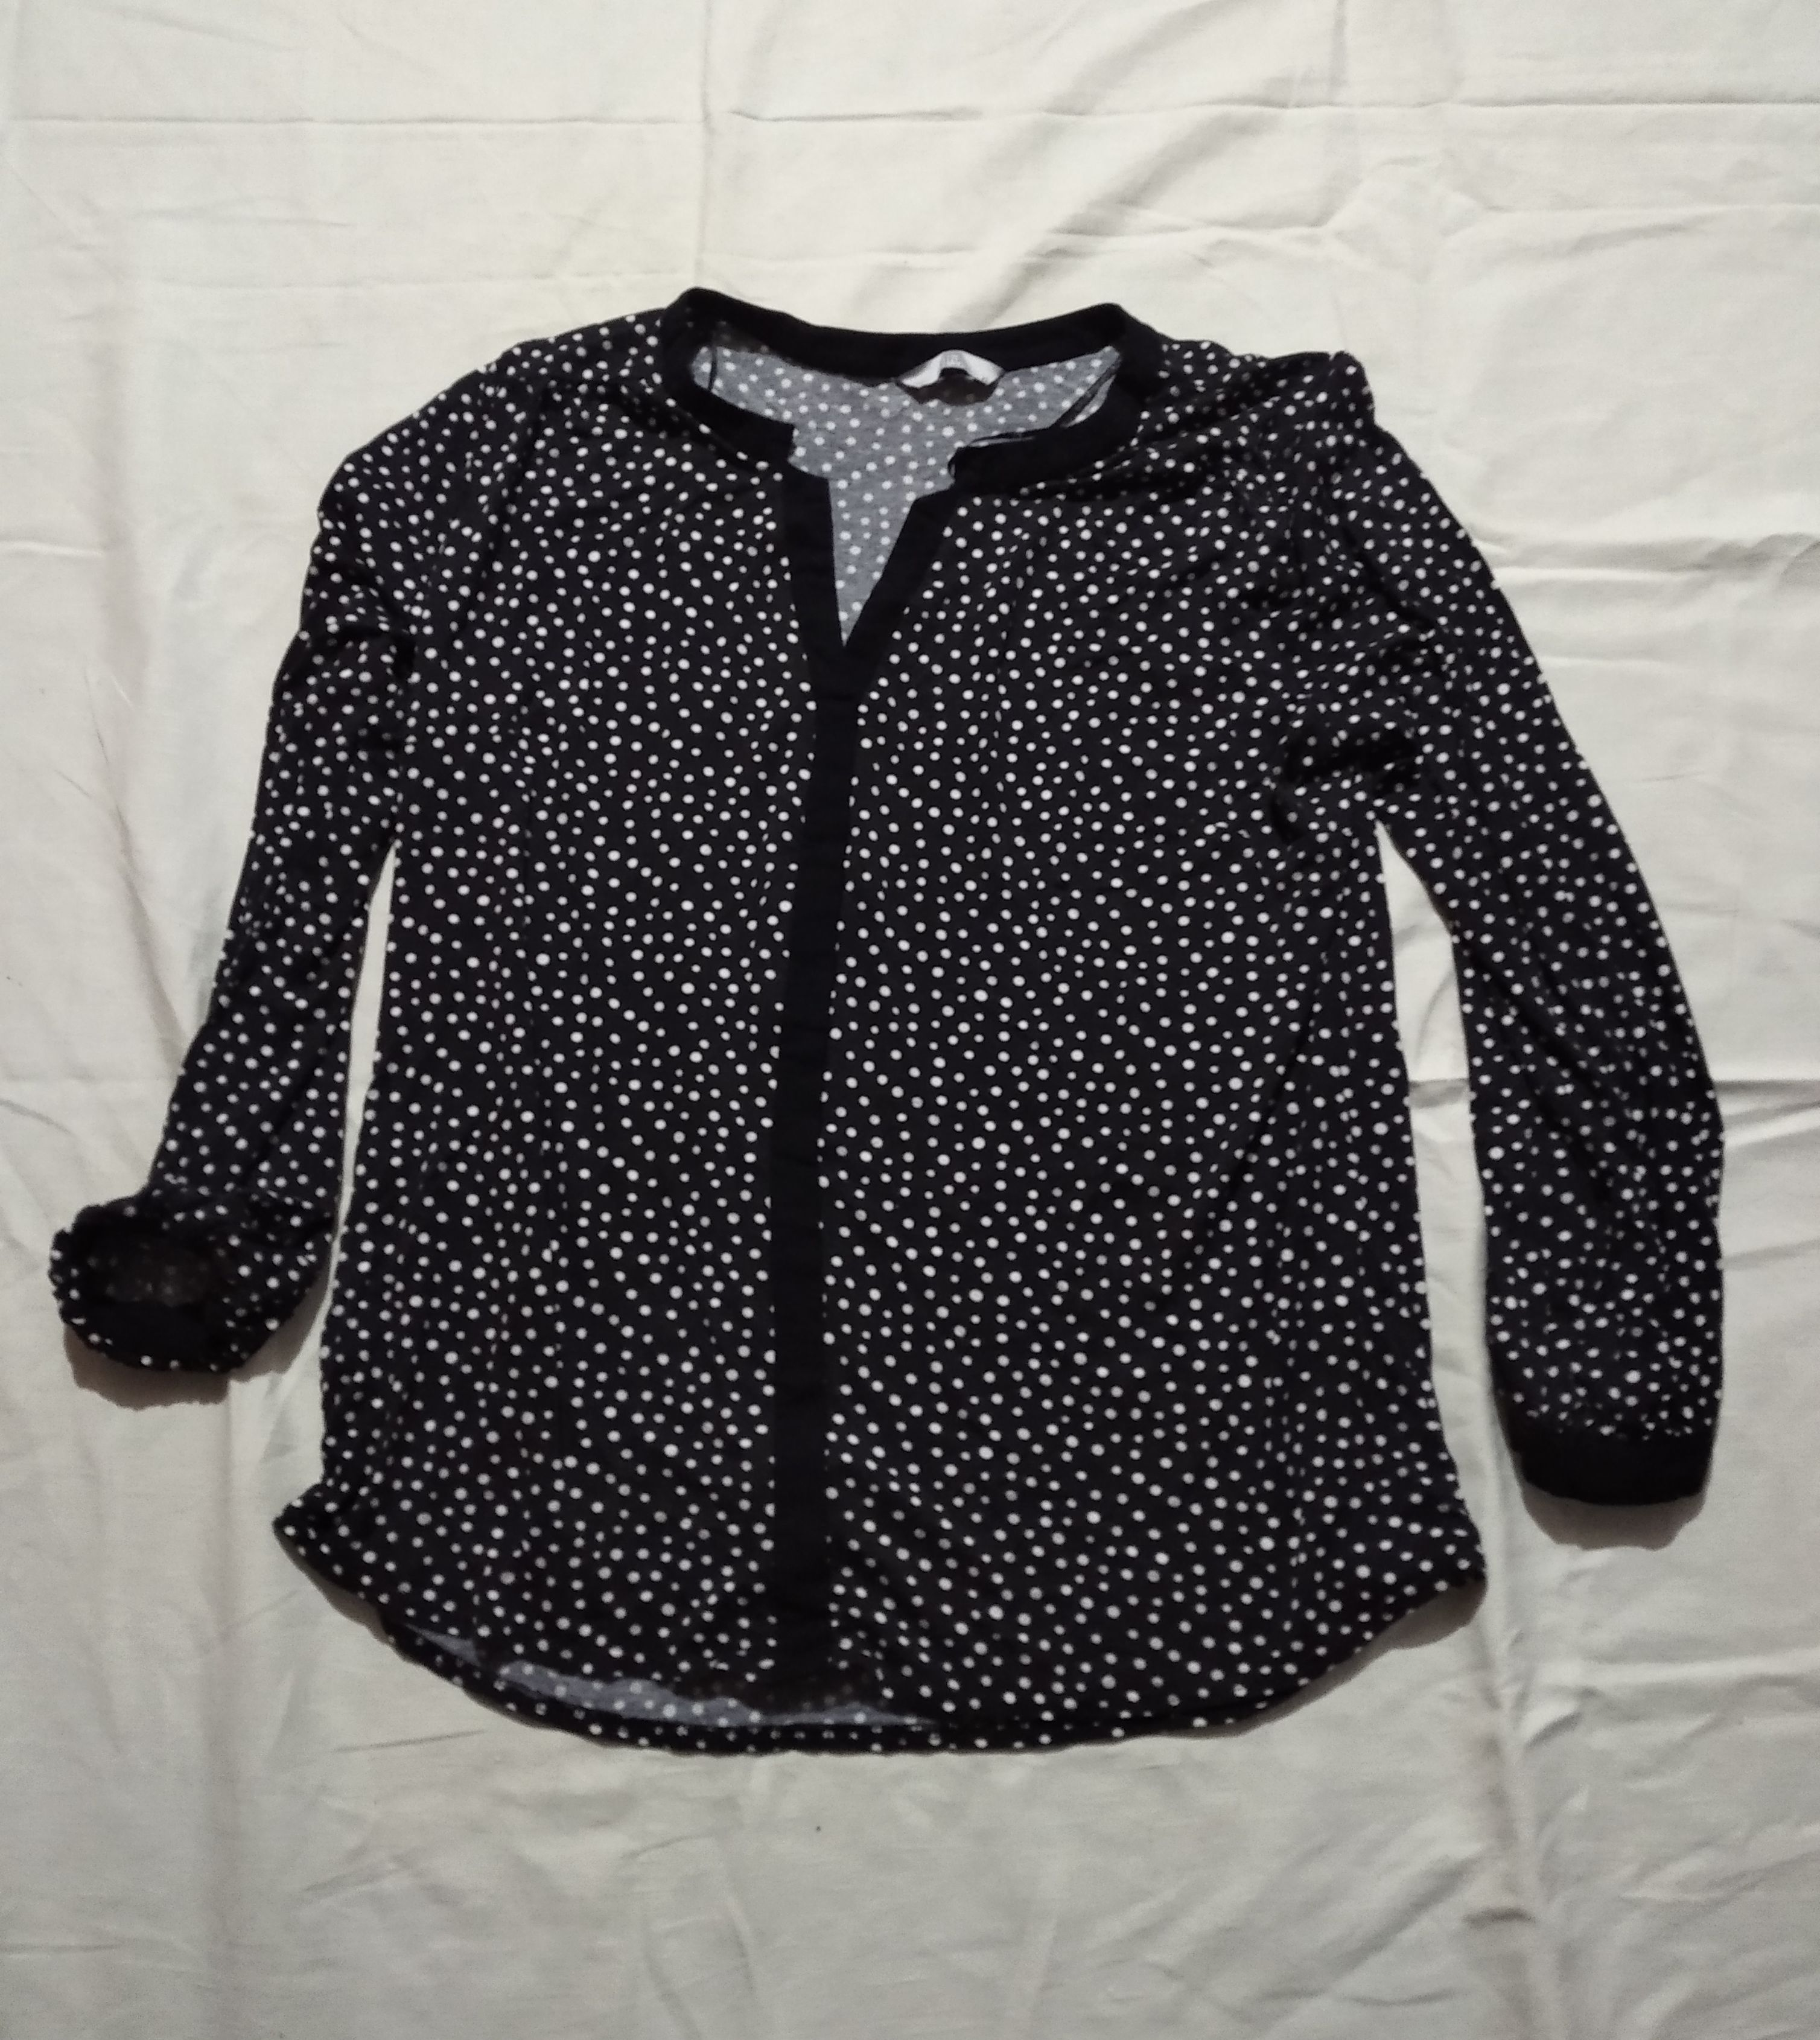clothes: (47, 228, 1720, 1773)
